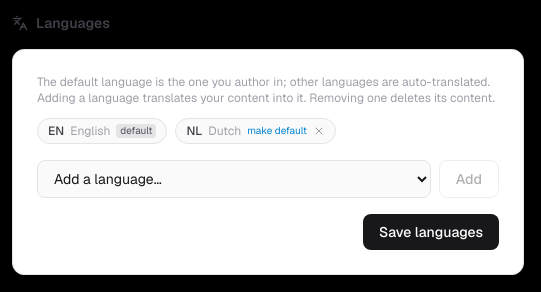
LanguagesPanel › removes a non-default locale chip when × is clicked
Expected: the text "nl" is shown, [186,123,202,139]
Click the button named "remove nl": click(319, 131) [313,125,325,137]
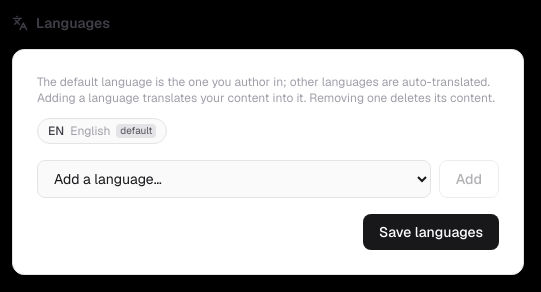
Expected: the text "en" is shown, [48,123,64,139]
Now the text "nl" is gone
